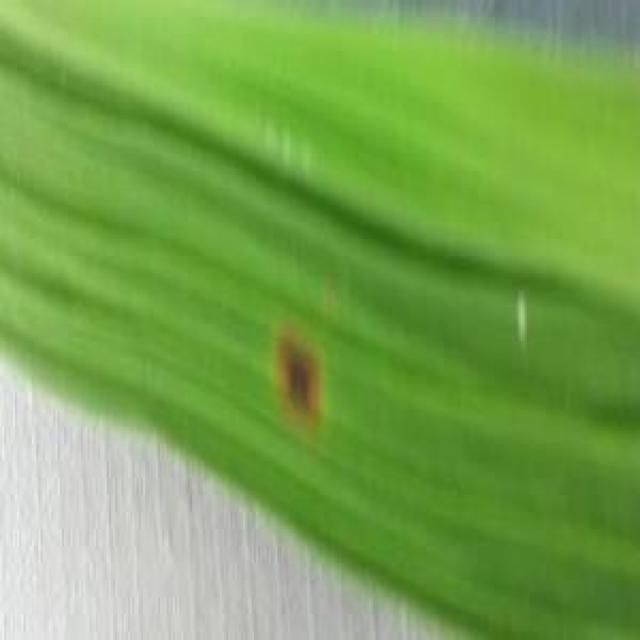brownspots: (262, 337, 333, 429)
